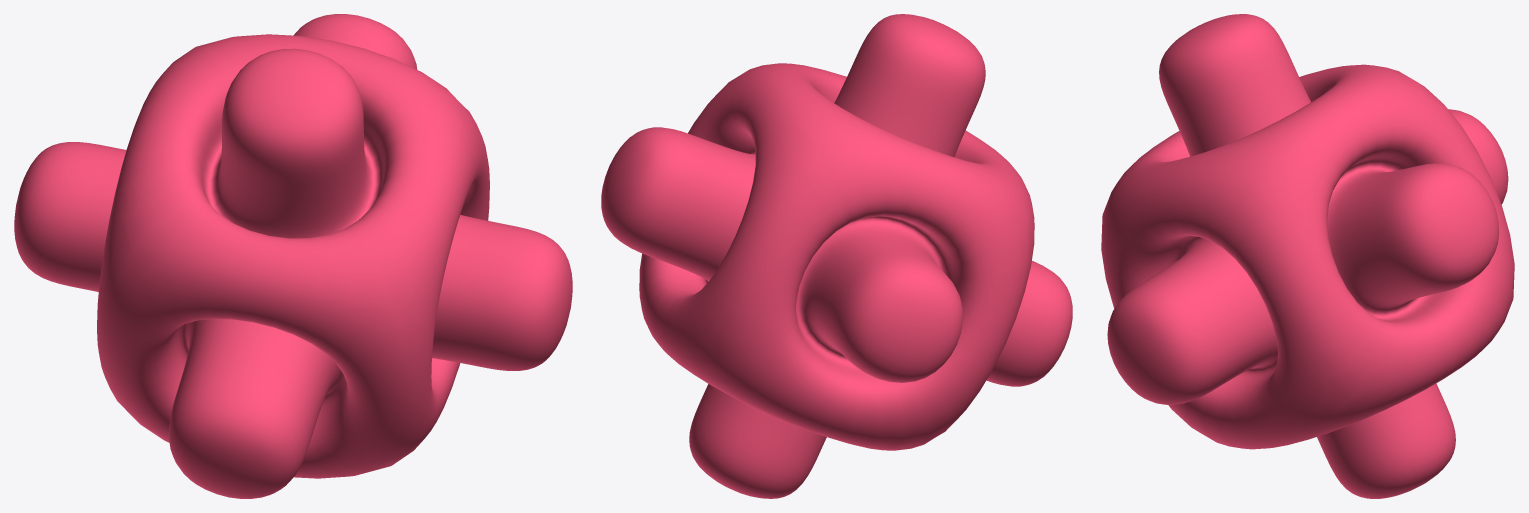
Rendered from cube-abstract-shape-animated-3d-icon-1108000545873.glb.
3 renders of one model, left to right at view 1: azimuth 30°, elevation 25°; view 2: azimuth 150°, elevation 25°; view 3: azimuth 270°, elevation 25°, orthographic. The views are drawn at different scales.
Visible parts, largest first — view 1: 8 Random CUbe; view 2: 8 Random CUbe; view 3: 8 Random CUbe.
Part boxes in pixels (x1,y1,x2,y2): 8 Random CUbe: [14, 14, 572, 498]; 8 Random CUbe: [601, 14, 1072, 498]; 8 Random CUbe: [1101, 14, 1514, 498].
Size of the model in its own units: 1.61 by 1.82 by 1.57.
